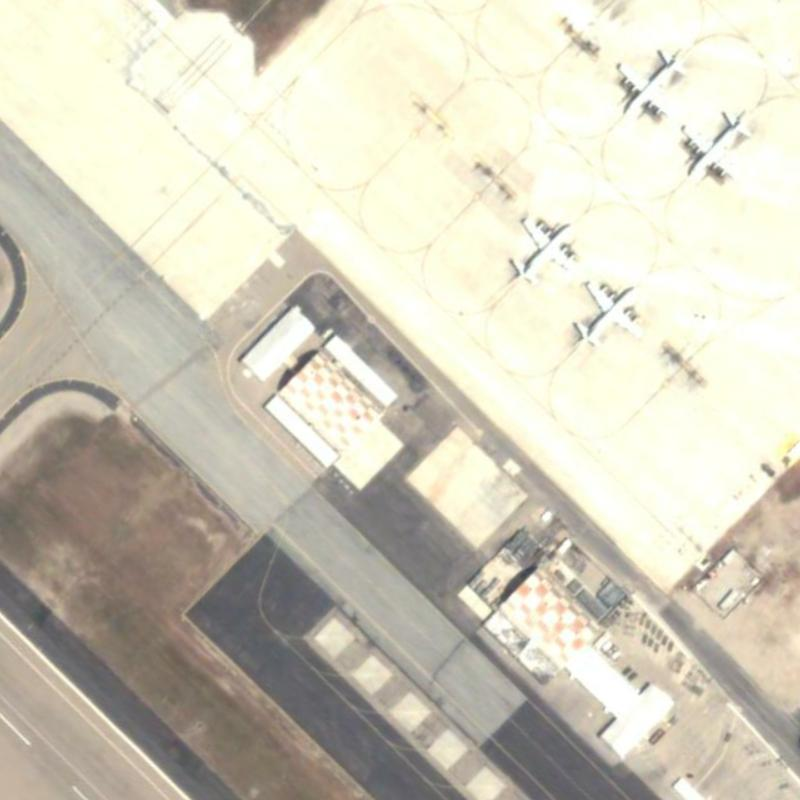A9: (613, 45, 694, 123), (500, 208, 581, 285), (678, 105, 753, 185), (569, 278, 647, 350)
